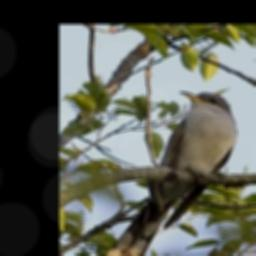Cuckoo: (105, 91, 238, 256)
